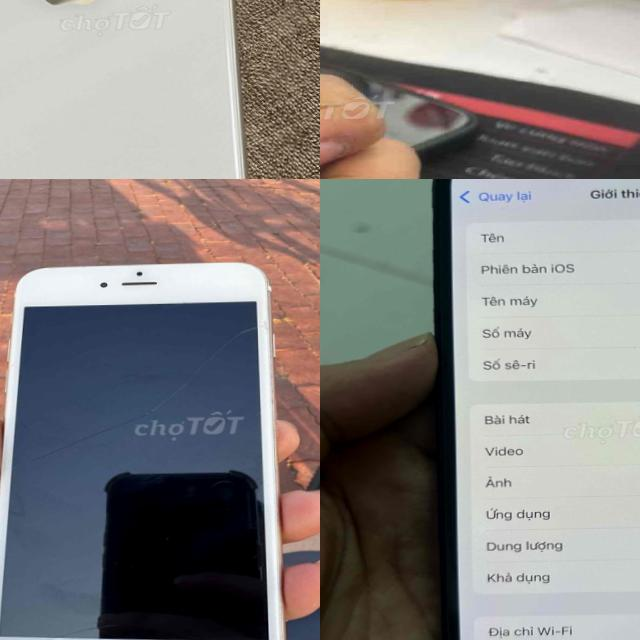screen_defect: (0, 323, 265, 480)
